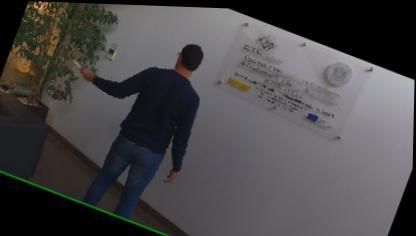knife: (67, 55, 91, 76)
